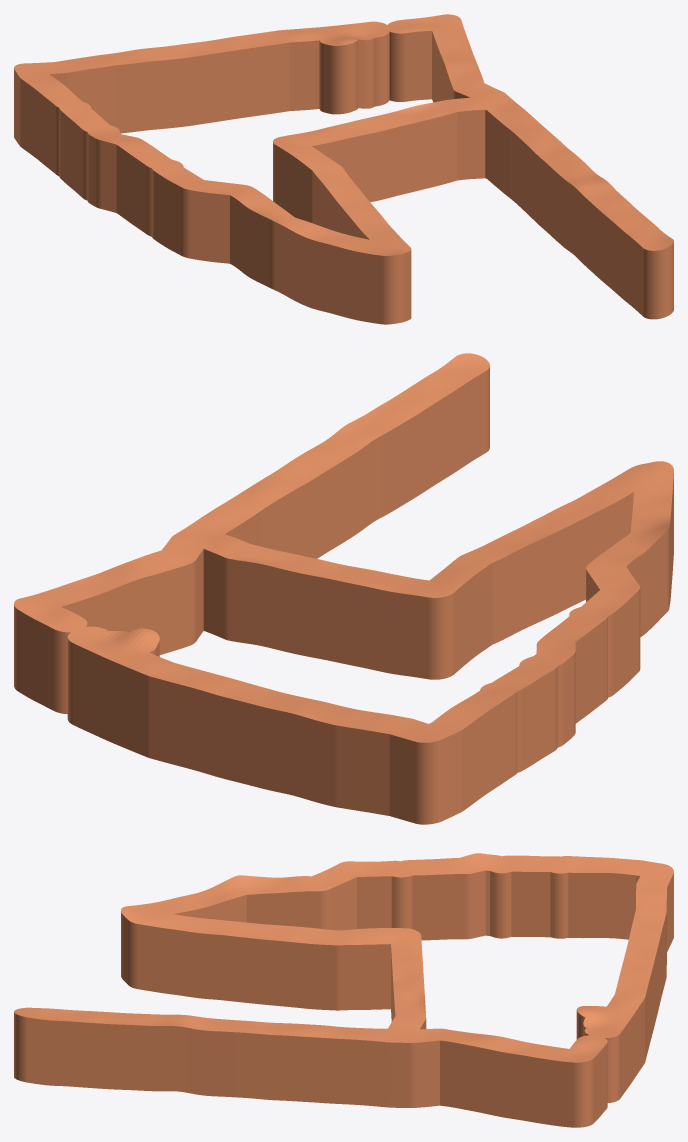
File: ruta.glb
3 views of the same model, one above another, from view 1: azimuth 30°, elevation 25°; view 2: azimuth 150°, elevation 25°; view 3: azimuth 270°, elevation 25° (orthographic). The views are drawn at different scales.
Parts seen in each view (by area): view 1: world; view 2: world; view 3: world.
Boxes of the visible parts, x1,y1,x2,y2 form: world: (14,14,673,324); world: (14,353,673,824); world: (14,853,673,1127).
Size of the model in its own units: 44.31 by 9.31 by 64.27.
